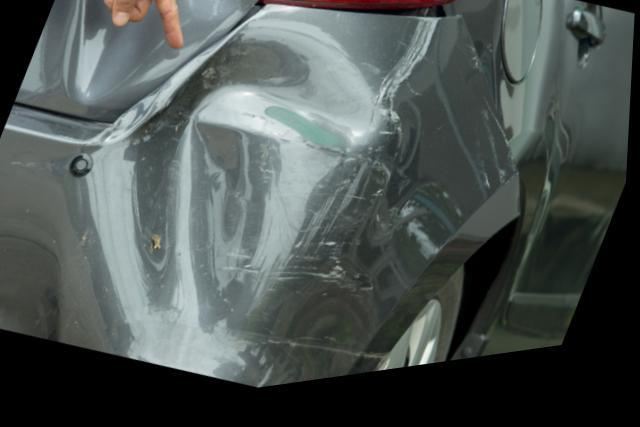dent: (90, 32, 391, 391), (77, 0, 169, 101), (185, 0, 251, 29)
dislocated part: (265, 0, 458, 35)
scratch: (279, 120, 411, 312)
